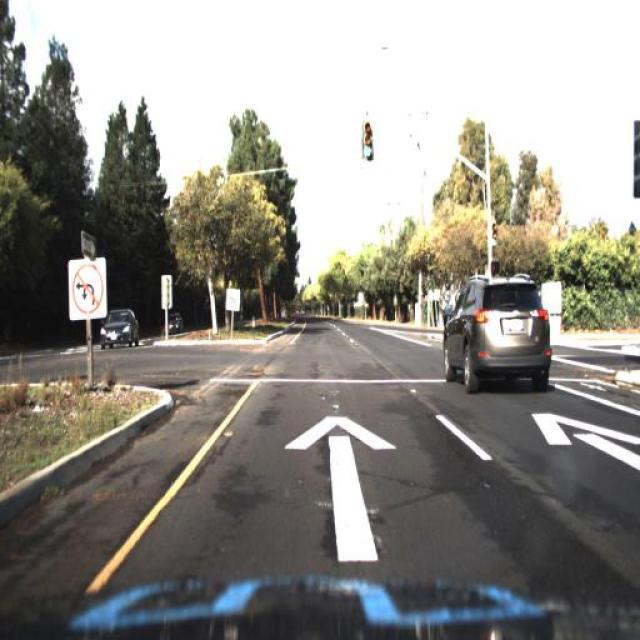car: (442, 274, 554, 395), (99, 310, 140, 350), (164, 311, 186, 338), (164, 310, 183, 334)
trafficLight-GreenLeft: (487, 209, 502, 256), (361, 116, 374, 162), (362, 117, 373, 165), (490, 222, 498, 248)
